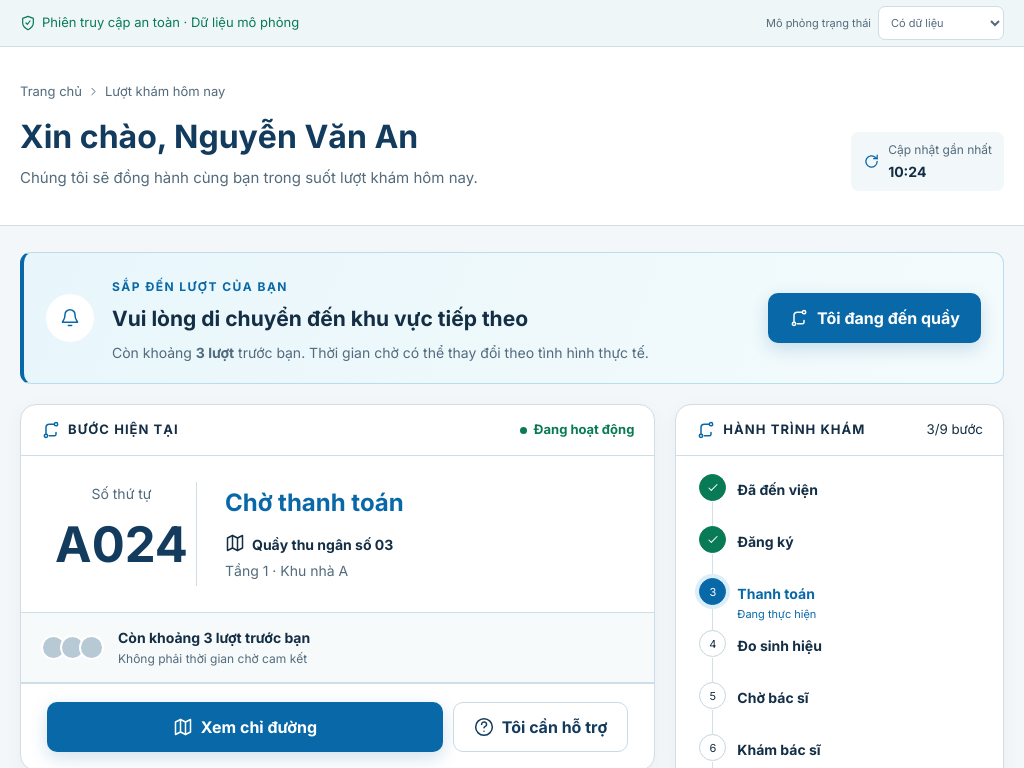
Scenario: VisitCompanionView › cho phép chuyển sang empty state trong demo
Select "Không có dữ liệu" in the dropdown labelled "Mô phỏng trạng thái" at (941,23), box [878,6,1004,40]
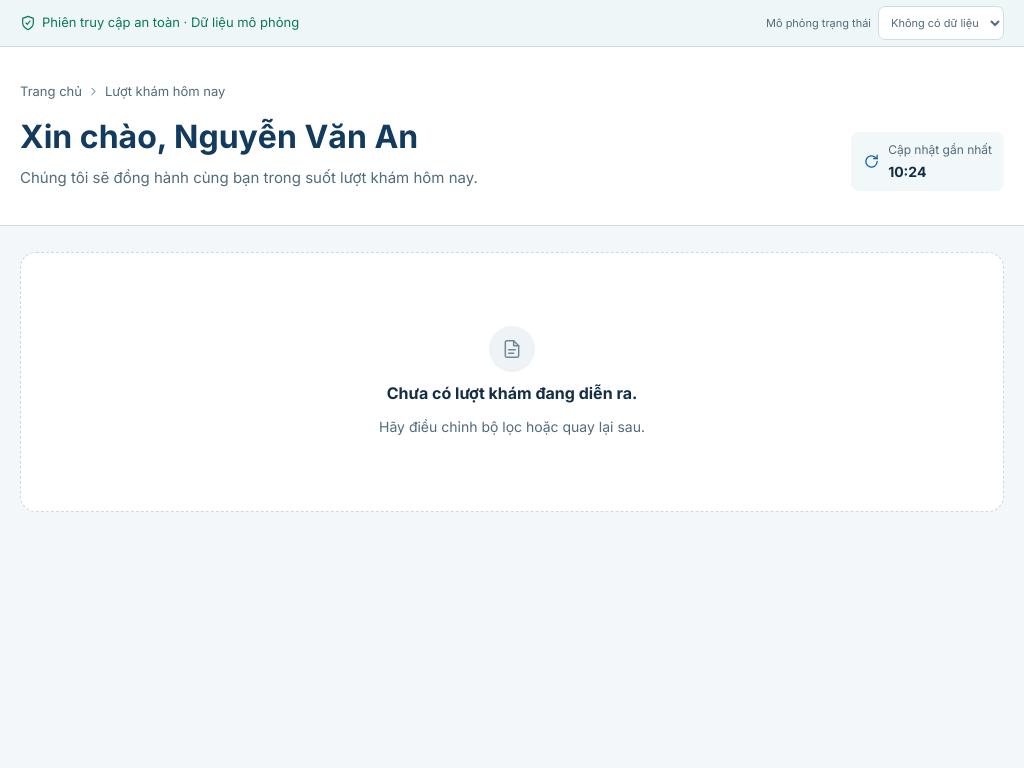
Now the text "Chưa có lượt khám đang diễn ra." is shown, box [387,380,637,407]
